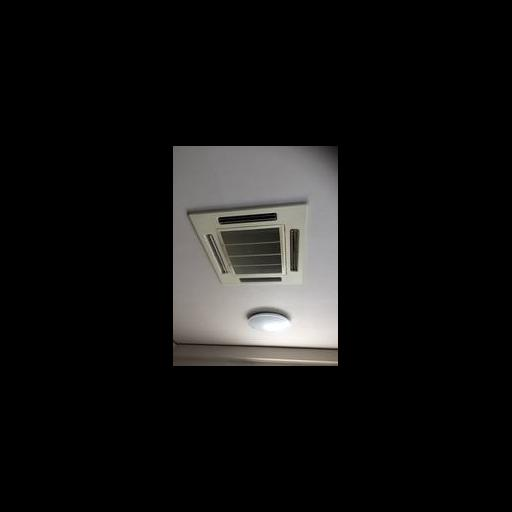4-way-ac: (188, 204, 310, 288)
